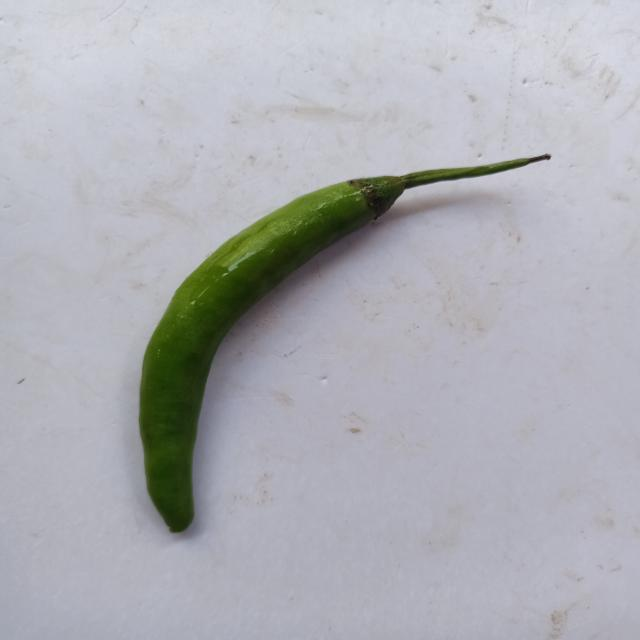Green Chilly: (139, 154, 551, 533)
